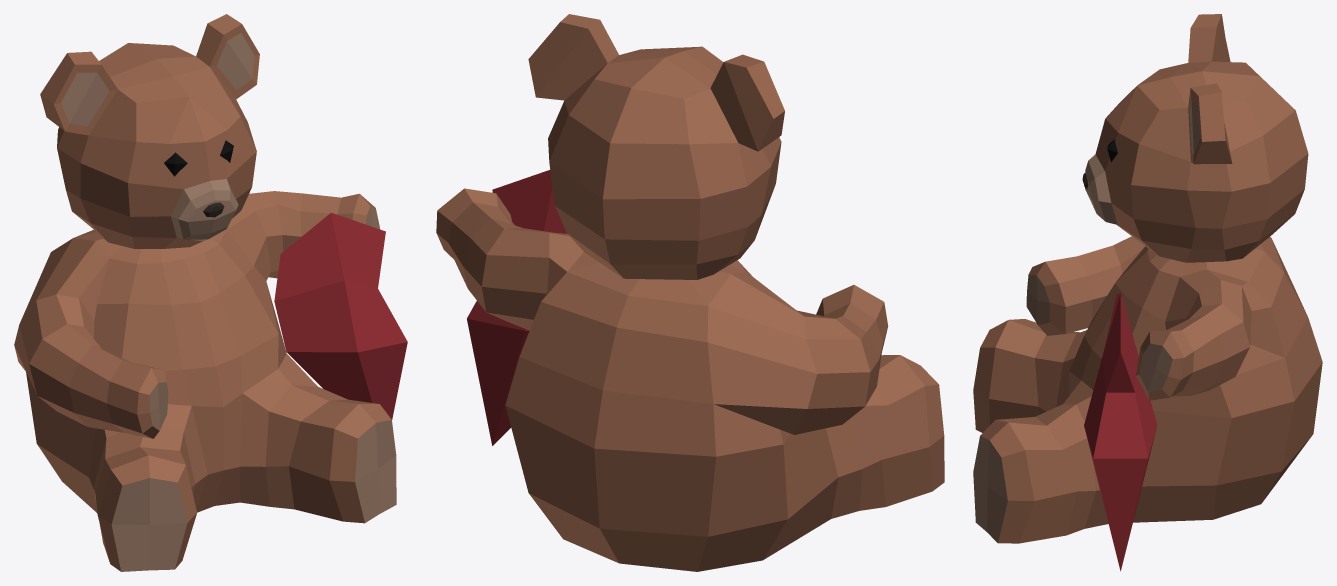
Rendered from Heart_Bear_L.fbx.
The picture shows the model from 3 angles, left to right: view 1: azimuth 30°, elevation 25°; view 2: azimuth 150°, elevation 25°; view 3: azimuth 270°, elevation 25°; orthographic projection. The views are drawn at different scales.
Visible parts, largest first — view 1: Heart_Bear_L; view 2: Heart_Bear_L; view 3: Heart_Bear_L.
Boxes of the visible parts, x1,y1,x2,y2 form: Heart_Bear_L: [14, 14, 407, 571]; Heart_Bear_L: [436, 14, 944, 571]; Heart_Bear_L: [973, 14, 1322, 571].
Size of the model in its own units: 0.2602 by 0.2963 by 0.2197.
